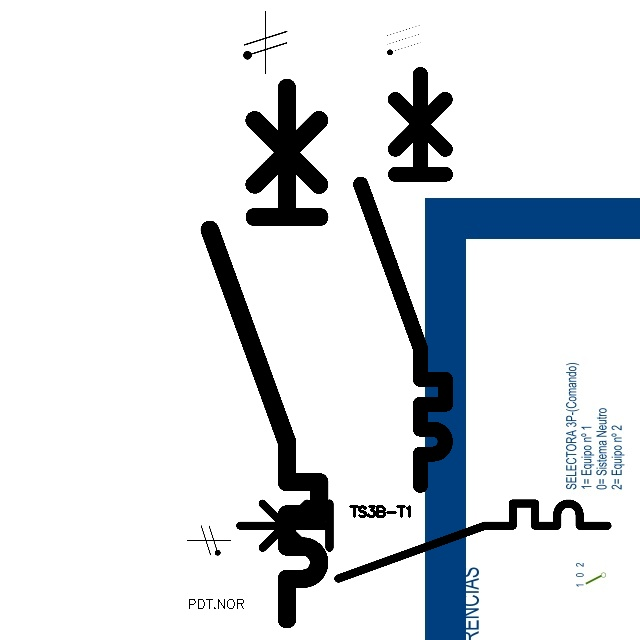interruptor_termomagnetico: (196, 74, 333, 633), (350, 63, 456, 496), (230, 494, 617, 588)
